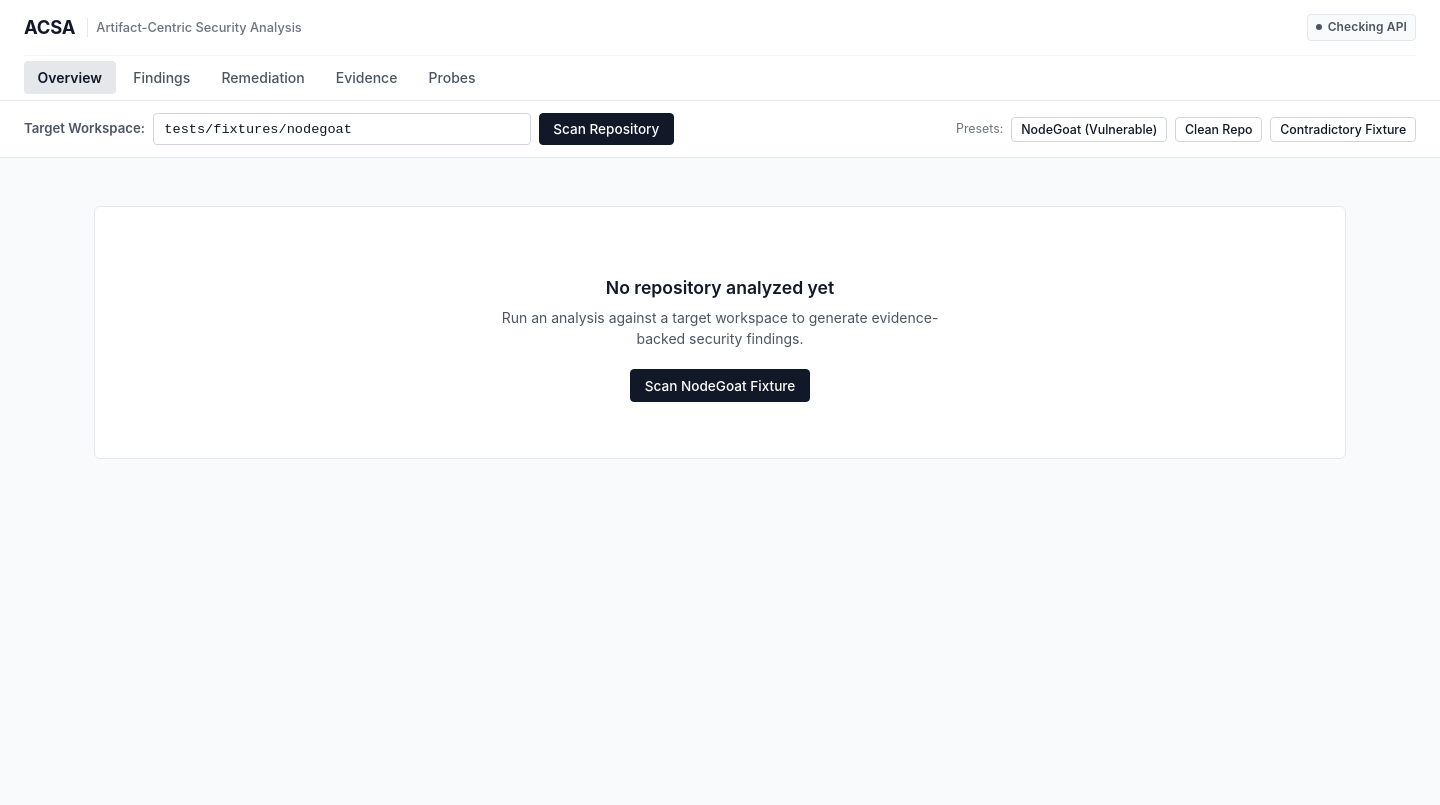
Test: App Integration Flow › renders initial empty state, header tabs, and allows scanning
The width and height of the screenshot is (1440, 805).
Expected: the text "ACSA" is shown, top-left (24, 14), bottom-right (75, 41)
Expected: the text "Artifact-Centric Security Analysis" is shown, top-left (87, 18), bottom-right (302, 37)
// Trigger Scan
What coordinates should you click on to do the following:
click the button "Scan Repository"
I would click on:
 (606, 129)
Its box is top-left (539, 113), bottom-right (674, 145).
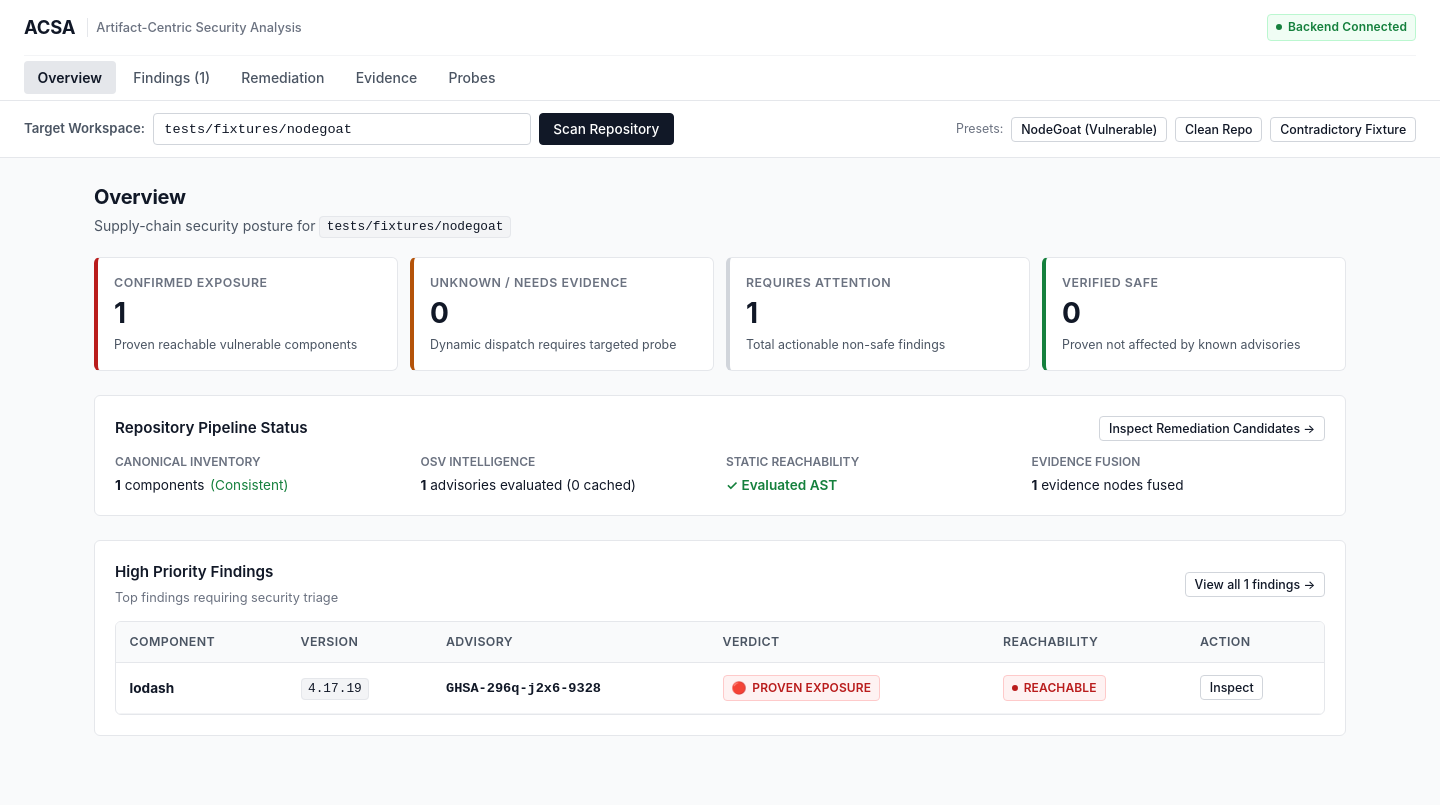
Expected: the text "Confirmed Exposure" is shown, top-left (114, 275), bottom-right (268, 290)
Expected: the heading "High Priority Findings" is shown, top-left (115, 562), bottom-right (273, 581)
// Navigate to Findings tab
What coordinates should you click on to do the following:
click the button "Findings (1)"
I would click on:
 (172, 78)
Its box is top-left (120, 61), bottom-right (224, 94).
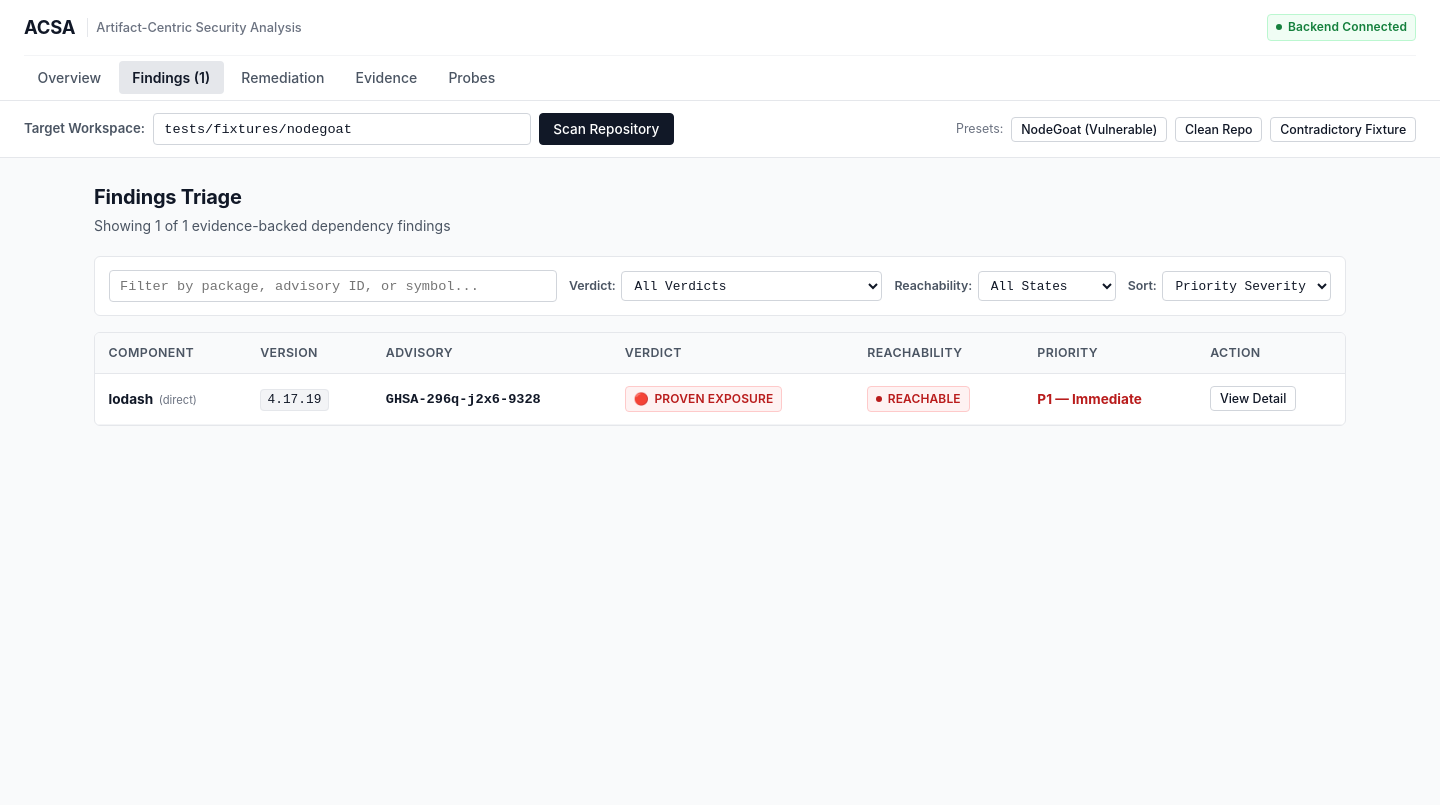
Expected: the text "GHSA-296q-j2x6-9328" is shown, top-left (386, 392), bottom-right (541, 407)
Expected: the heading "Findings Triage" is shown, top-left (94, 185), bottom-right (242, 209)
// Navigate to Evidence tab
What coordinates should you click on to do the following:
click the button "Evidence"
I would click on:
 (386, 78)
Its box is top-left (342, 61), bottom-right (431, 94).
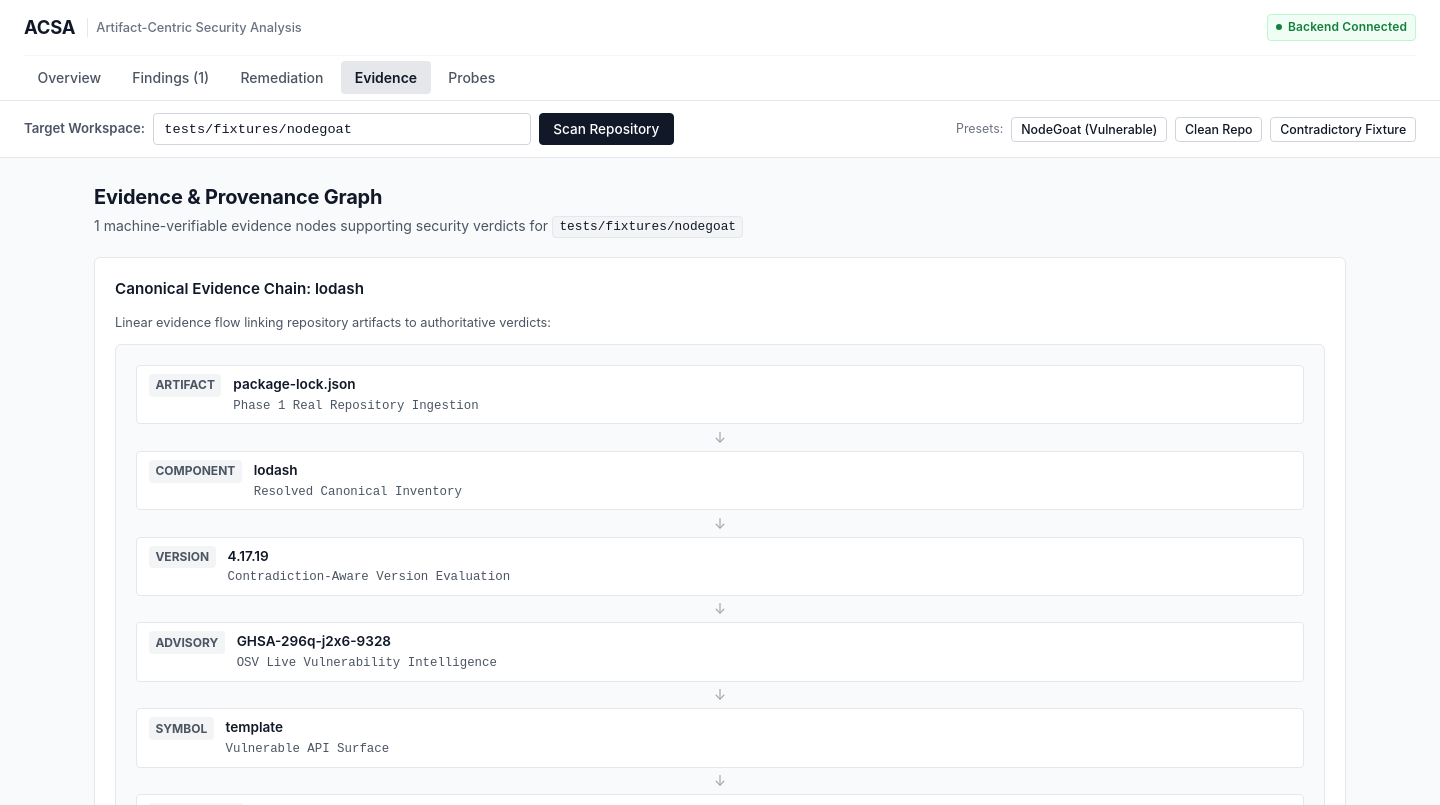
Expected: the heading "Evidence & Provenance Graph" is shown, top-left (94, 185), bottom-right (382, 209)
